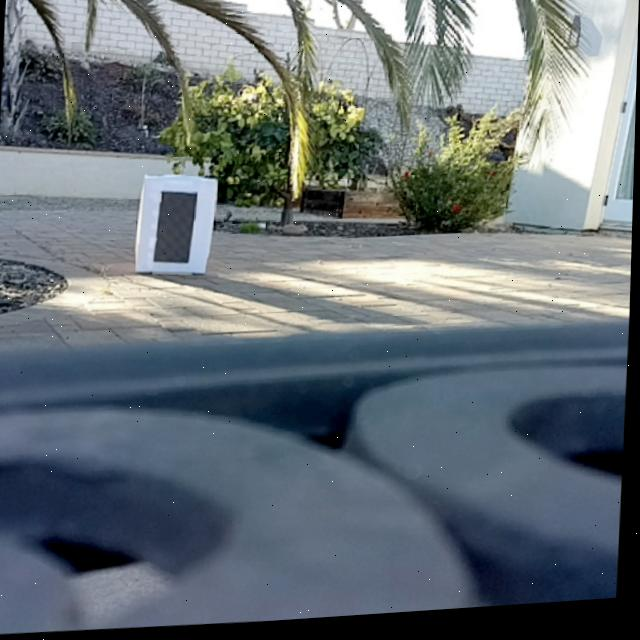led: (154, 192, 199, 268)
